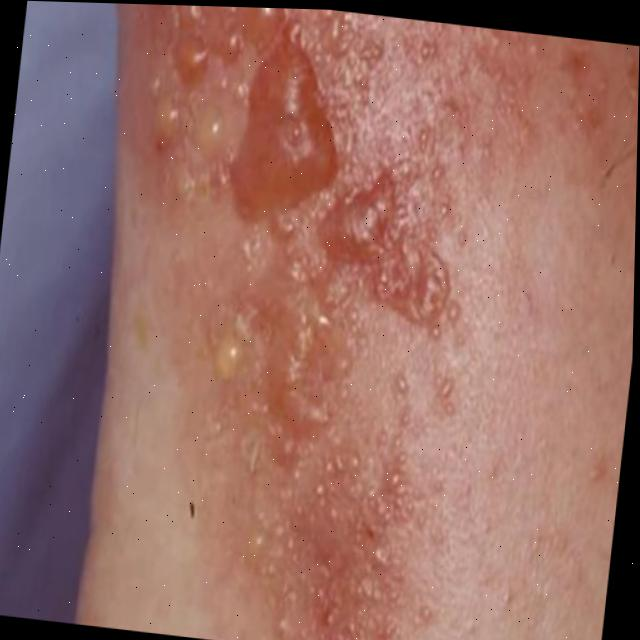Eczema: (82, 3, 500, 622)
